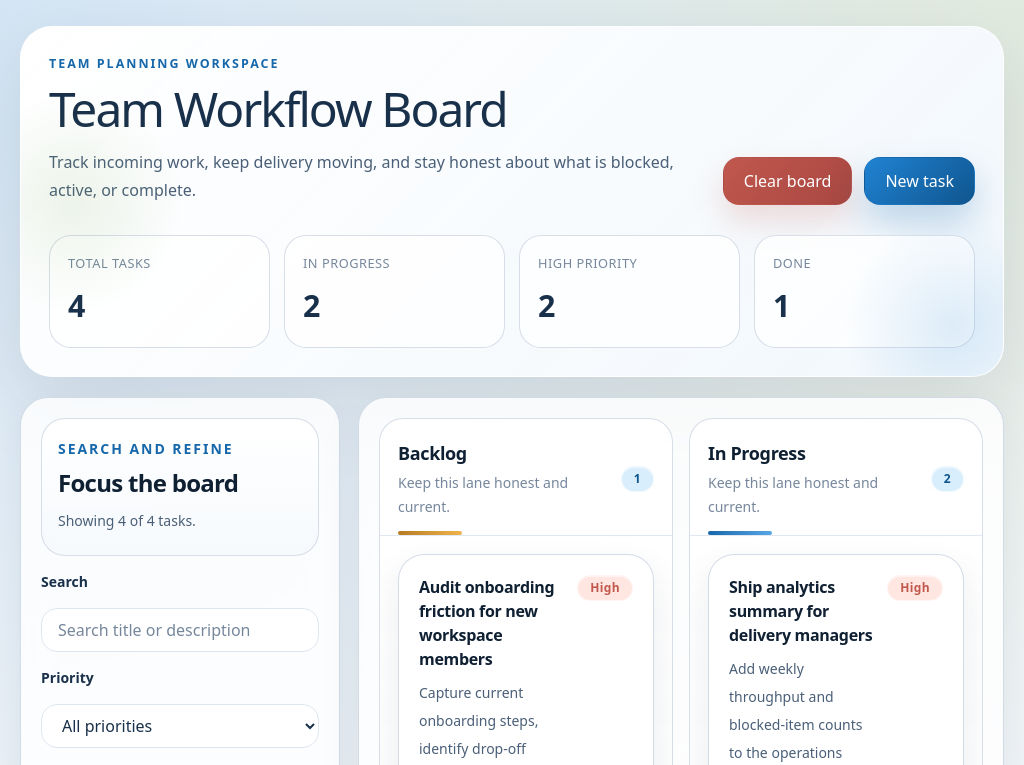
Scenario: BoardPage › filters the board down to matching tasks
In the field labelled "Search": point(180, 630) [41,608,319,652], type "analytics summary"
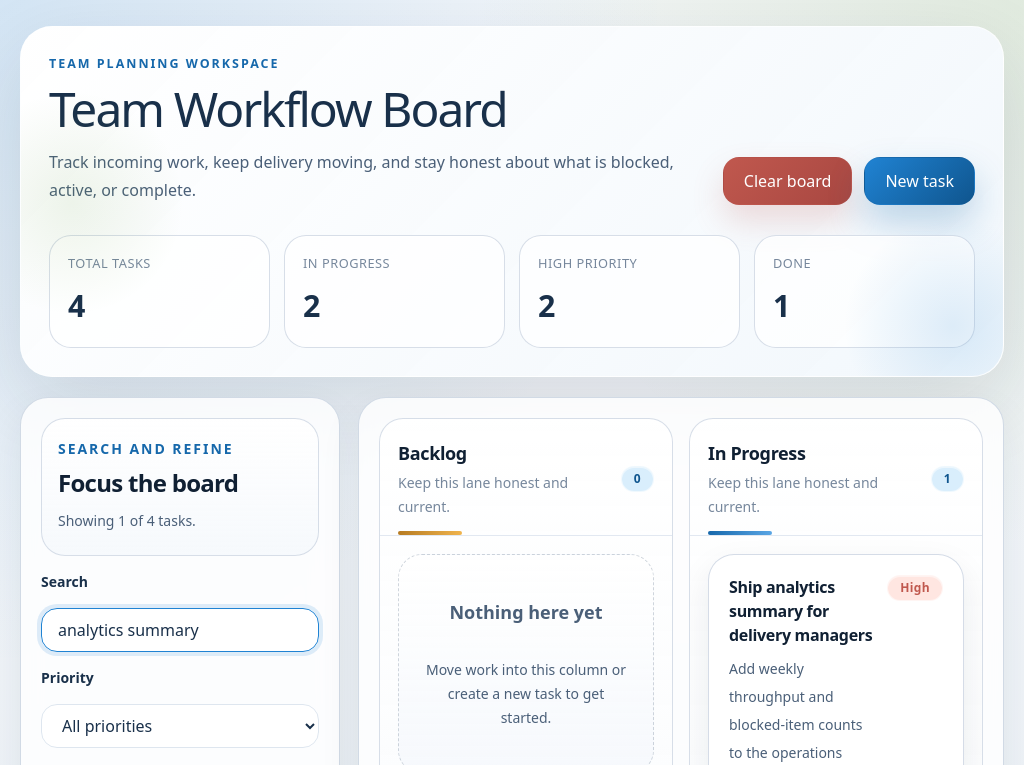
Check: the heading "Ship analytics summary for delivery managers" is shown, box [729,575,875,647]
Check: the heading "Audit onboarding friction for new workspace members" is gone
